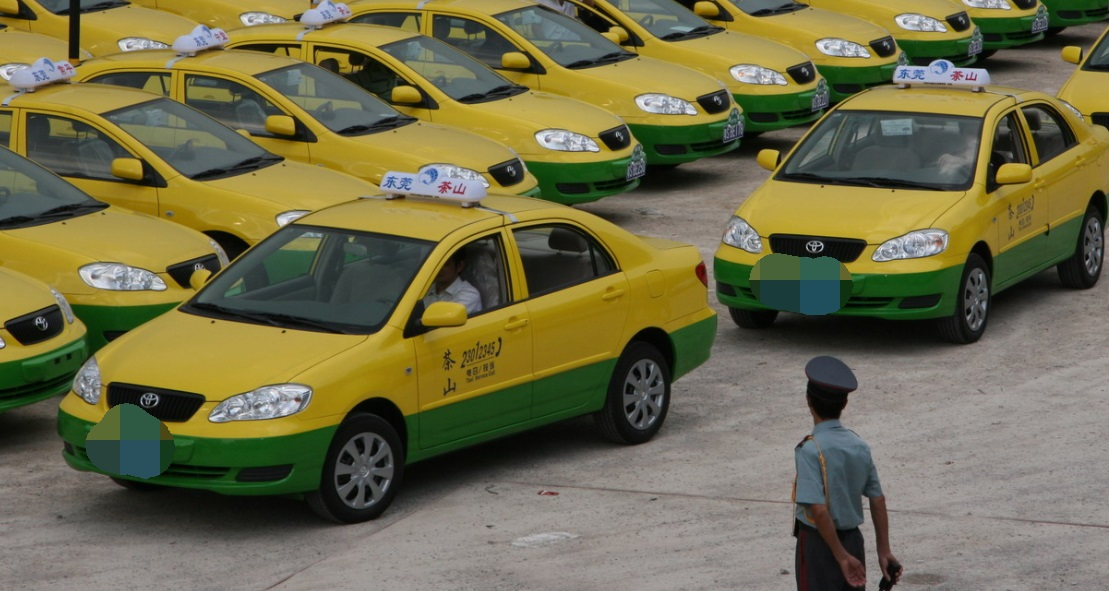taxi: (57, 162, 724, 533)
